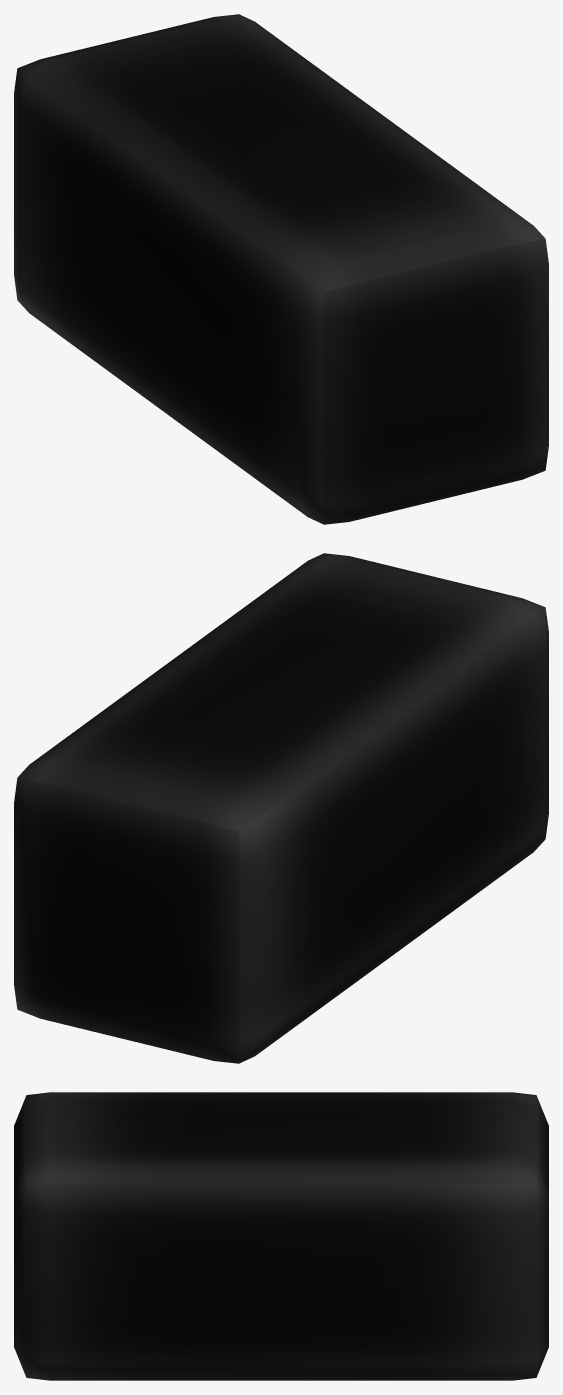
The model's file is katneenLeg.fbx.
3 renders of one model, top to bottom at view 1: azimuth 30°, elevation 25°; view 2: azimuth 150°, elevation 25°; view 3: azimuth 270°, elevation 25°, orthographic. The views are drawn at different scales.
Visible parts, largest first — view 1: Cube; view 2: Cube; view 3: Cube.
Boxes of the visible parts, x1,y1,x2,y2 form: Cube: (14, 14, 548, 524); Cube: (14, 553, 548, 1063); Cube: (14, 1092, 548, 1380).
Bounding box in the file's own units: 2 × 2 × 4.5.
